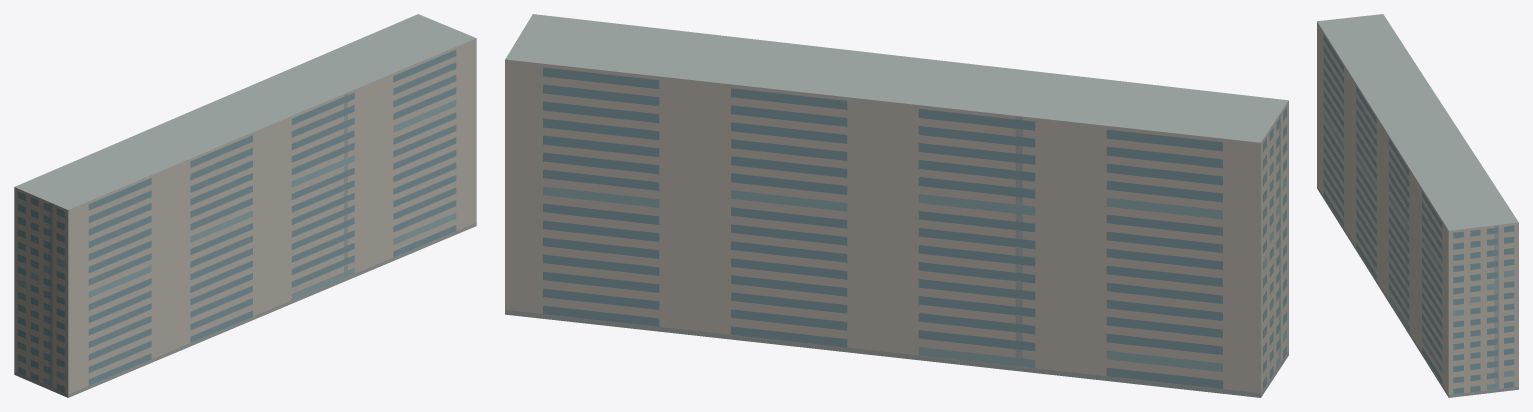
The model's file is residential-e5f719d1-78e6-4db2-8345-2e358726dcd7.glb.
3 renders of one model, left to right at view 1: azimuth 30°, elevation 25°; view 2: azimuth 150°, elevation 25°; view 3: azimuth 270°, elevation 25°, orthographic. The views are drawn at different scales.
Parts seen in each view (by area): view 1: residential-e5f719d1-78e6-4db2-8345-2e358726dcd7.tmp; view 2: residential-e5f719d1-78e6-4db2-8345-2e358726dcd7.tmp; view 3: residential-e5f719d1-78e6-4db2-8345-2e358726dcd7.tmp.
Boxes of the visible parts, x1=… form: residential-e5f719d1-78e6-4db2-8345-2e358726dcd7.tmp: x1=14, y1=14, x2=476, y2=397; residential-e5f719d1-78e6-4db2-8345-2e358726dcd7.tmp: x1=505, y1=14, x2=1288, y2=397; residential-e5f719d1-78e6-4db2-8345-2e358726dcd7.tmp: x1=1317, y1=14, x2=1518, y2=397.
Size of the model in its own units: 127 by 45.75 by 50.09.
